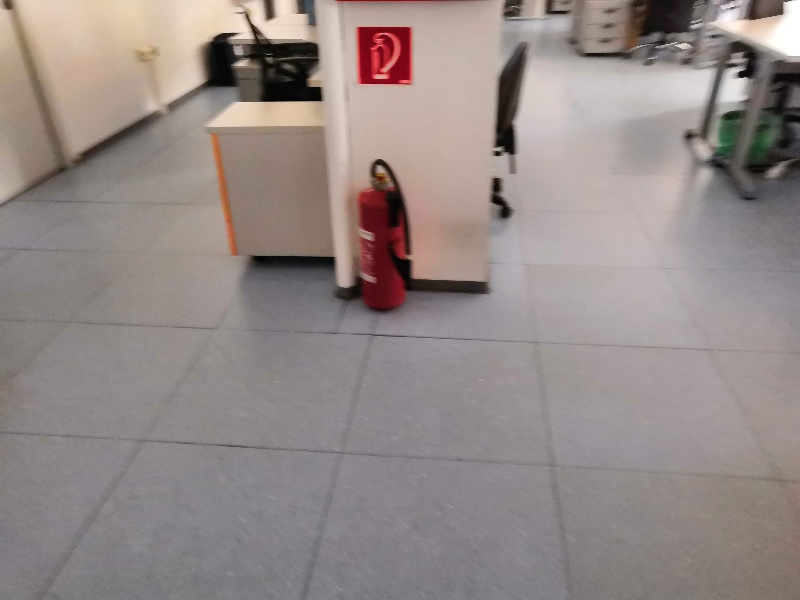vataparat: (358, 160, 413, 312)
